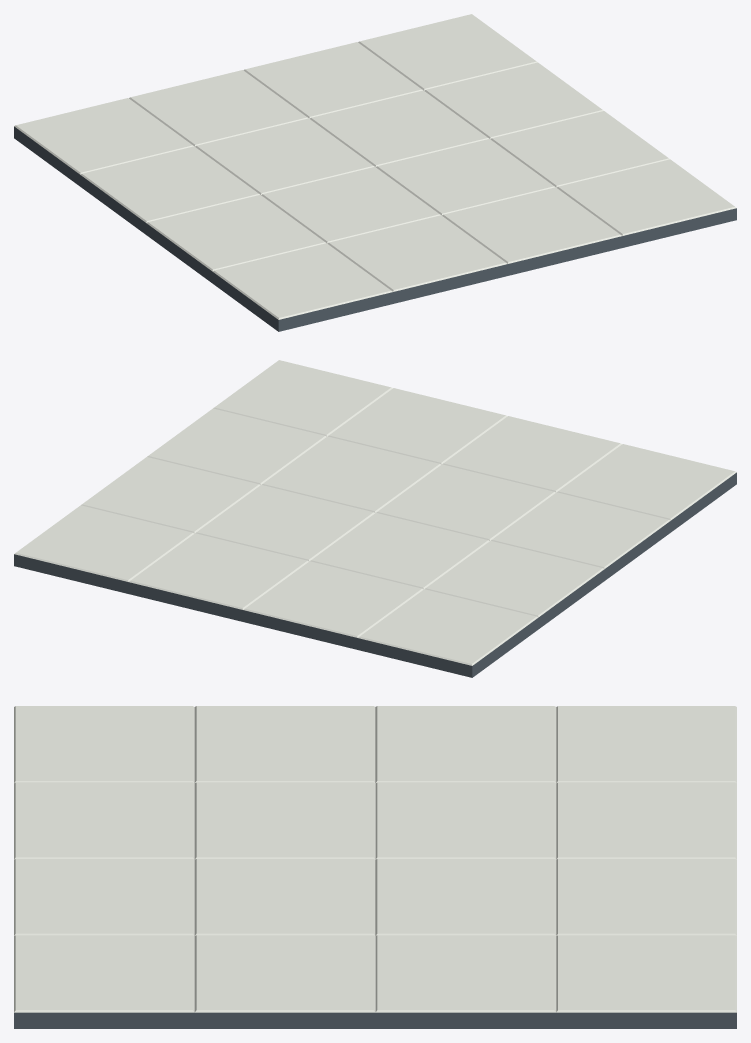
File: Floor_5.gltf
The picture shows the model from 3 angles, top to bottom: view 1: azimuth 30°, elevation 25°; view 2: azimuth 150°, elevation 25°; view 3: azimuth 270°, elevation 25°; orthographic projection. The views are drawn at different scales.
Parts seen in each view (by area): view 1: SM_Floor_2B_762_StaticMeshComponent0; view 2: SM_Floor_2B_762_StaticMeshComponent0; view 3: SM_Floor_2B_762_StaticMeshComponent0.
Part boxes in pixels (left/top/right/bottom): SM_Floor_2B_762_StaticMeshComponent0: left=14, top=14, right=736, bottom=331; SM_Floor_2B_762_StaticMeshComponent0: left=14, top=360, right=736, bottom=677; SM_Floor_2B_762_StaticMeshComponent0: left=14, top=706, right=736, bottom=1028.
Bounding box in the file's own units: 4 × 0.11 × 4.
1 material, 1 textured.
